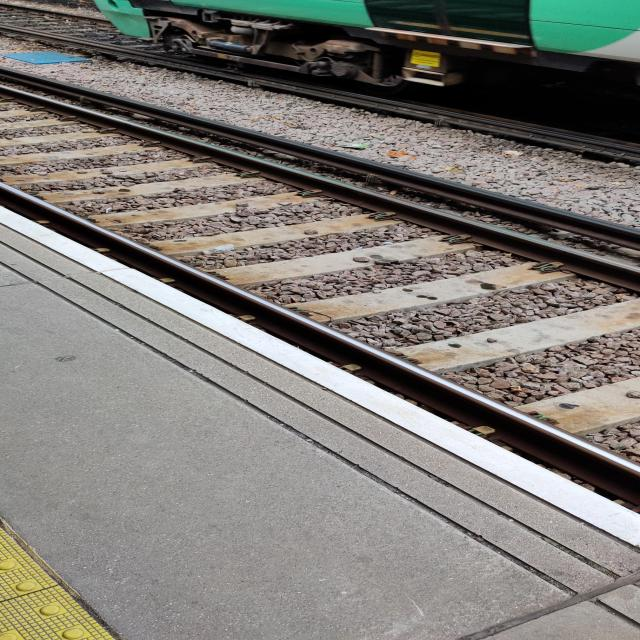litter: (335, 143, 366, 148)
